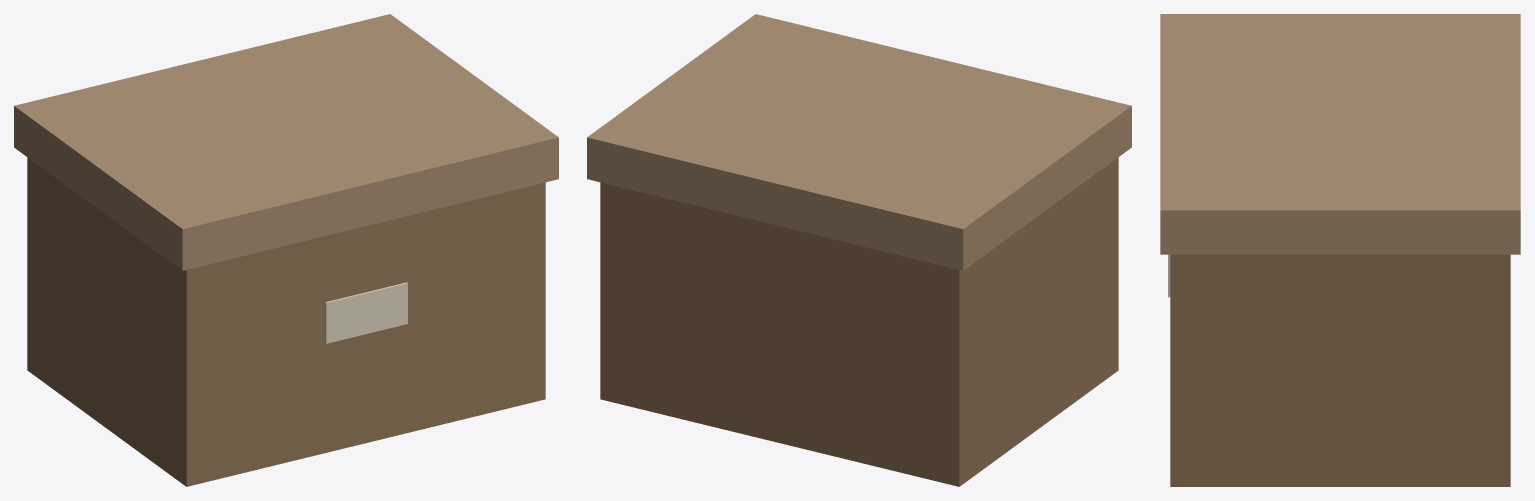
The model's file is storage_box.glb.
The picture shows the model from 3 angles, left to right: view 1: azimuth 30°, elevation 25°; view 2: azimuth 150°, elevation 25°; view 3: azimuth 270°, elevation 25°; orthographic projection. The views are drawn at different scales.
Parts seen in each view (by area): view 1: Box, Lid, Label; view 2: Box, Lid; view 3: Lid, Box.
Part boxes in pixels (bbox=[...]): Box: bbox=[27, 157, 545, 486]; Lid: bbox=[14, 14, 558, 270]; Label: bbox=[325, 282, 407, 343]; Box: bbox=[600, 157, 1118, 486]; Lid: bbox=[587, 14, 1131, 270]; Lid: bbox=[1160, 14, 1520, 254]; Box: bbox=[1170, 254, 1510, 486].
Bounding box in the file's own units: 0.501 × 0.335 × 0.389.
